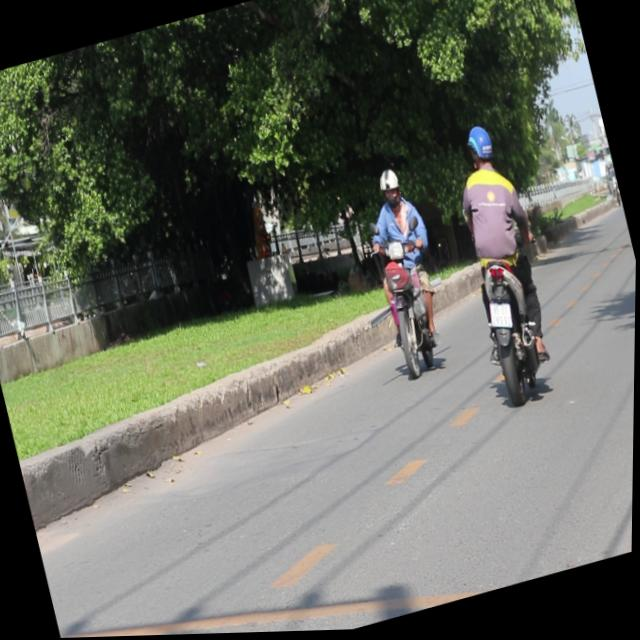helmet: (462, 124, 498, 176), (374, 167, 405, 211)
licenseplate: (431, 117, 571, 413), (350, 163, 461, 384)
nohelmet: (487, 300, 516, 335)
